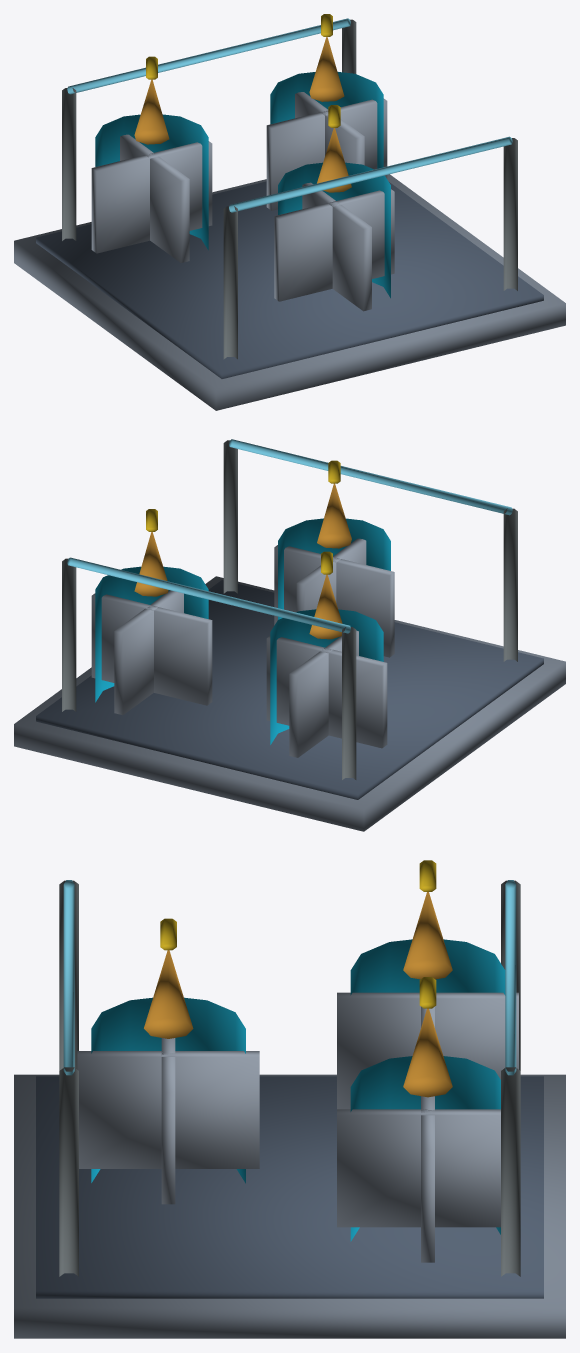
File: substation.glb
3 views of the same model, one above another, from view 1: azimuth 30°, elevation 25°; view 2: azimuth 150°, elevation 25°; view 3: azimuth 270°, elevation 25° (orthographic). The views are drawn at different scales.
Visible parts, largest first — view 1: world; view 2: world; view 3: world.
Part boxes in pixels (x1,y1,x2,y2): world: [14, 14, 565, 410]; world: [14, 439, 565, 831]; world: [14, 860, 565, 1338].
Bounding box in the file's own units: 10 × 6 × 10.
